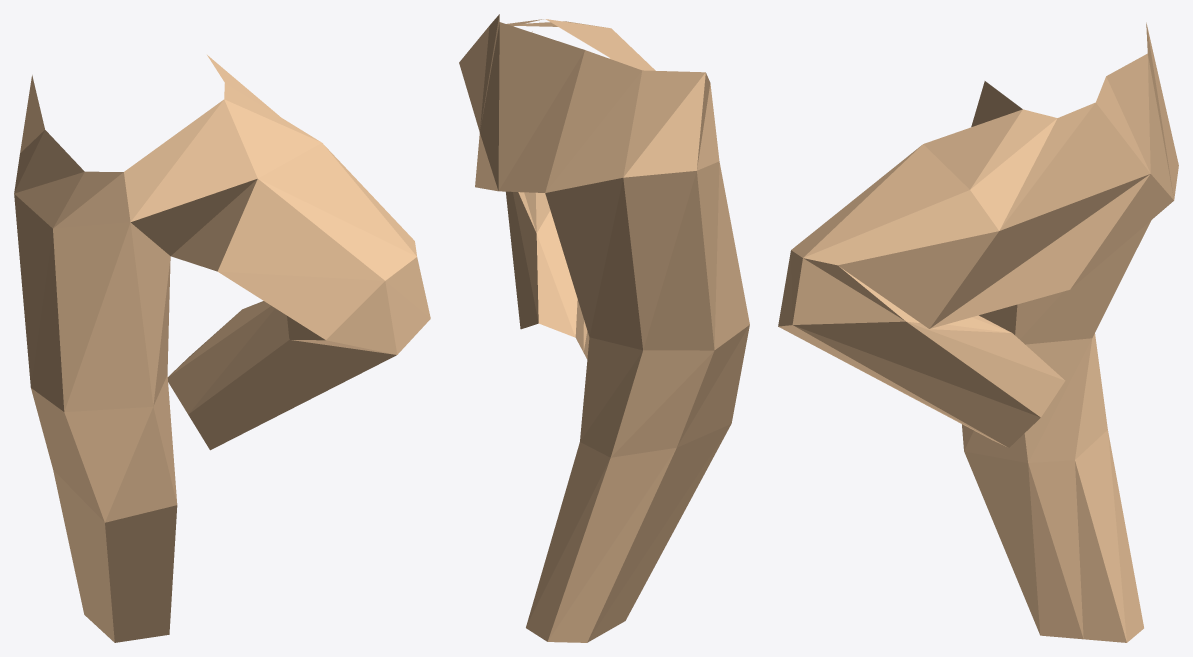
3 views of the same model, side by side, from view 1: azimuth 30°, elevation 25°; view 2: azimuth 150°, elevation 25°; view 3: azimuth 270°, elevation 25° (orthographic). The views are drawn at different scales.
Size of the model in its own units: 0.6 by 1.19 by 0.7229.
